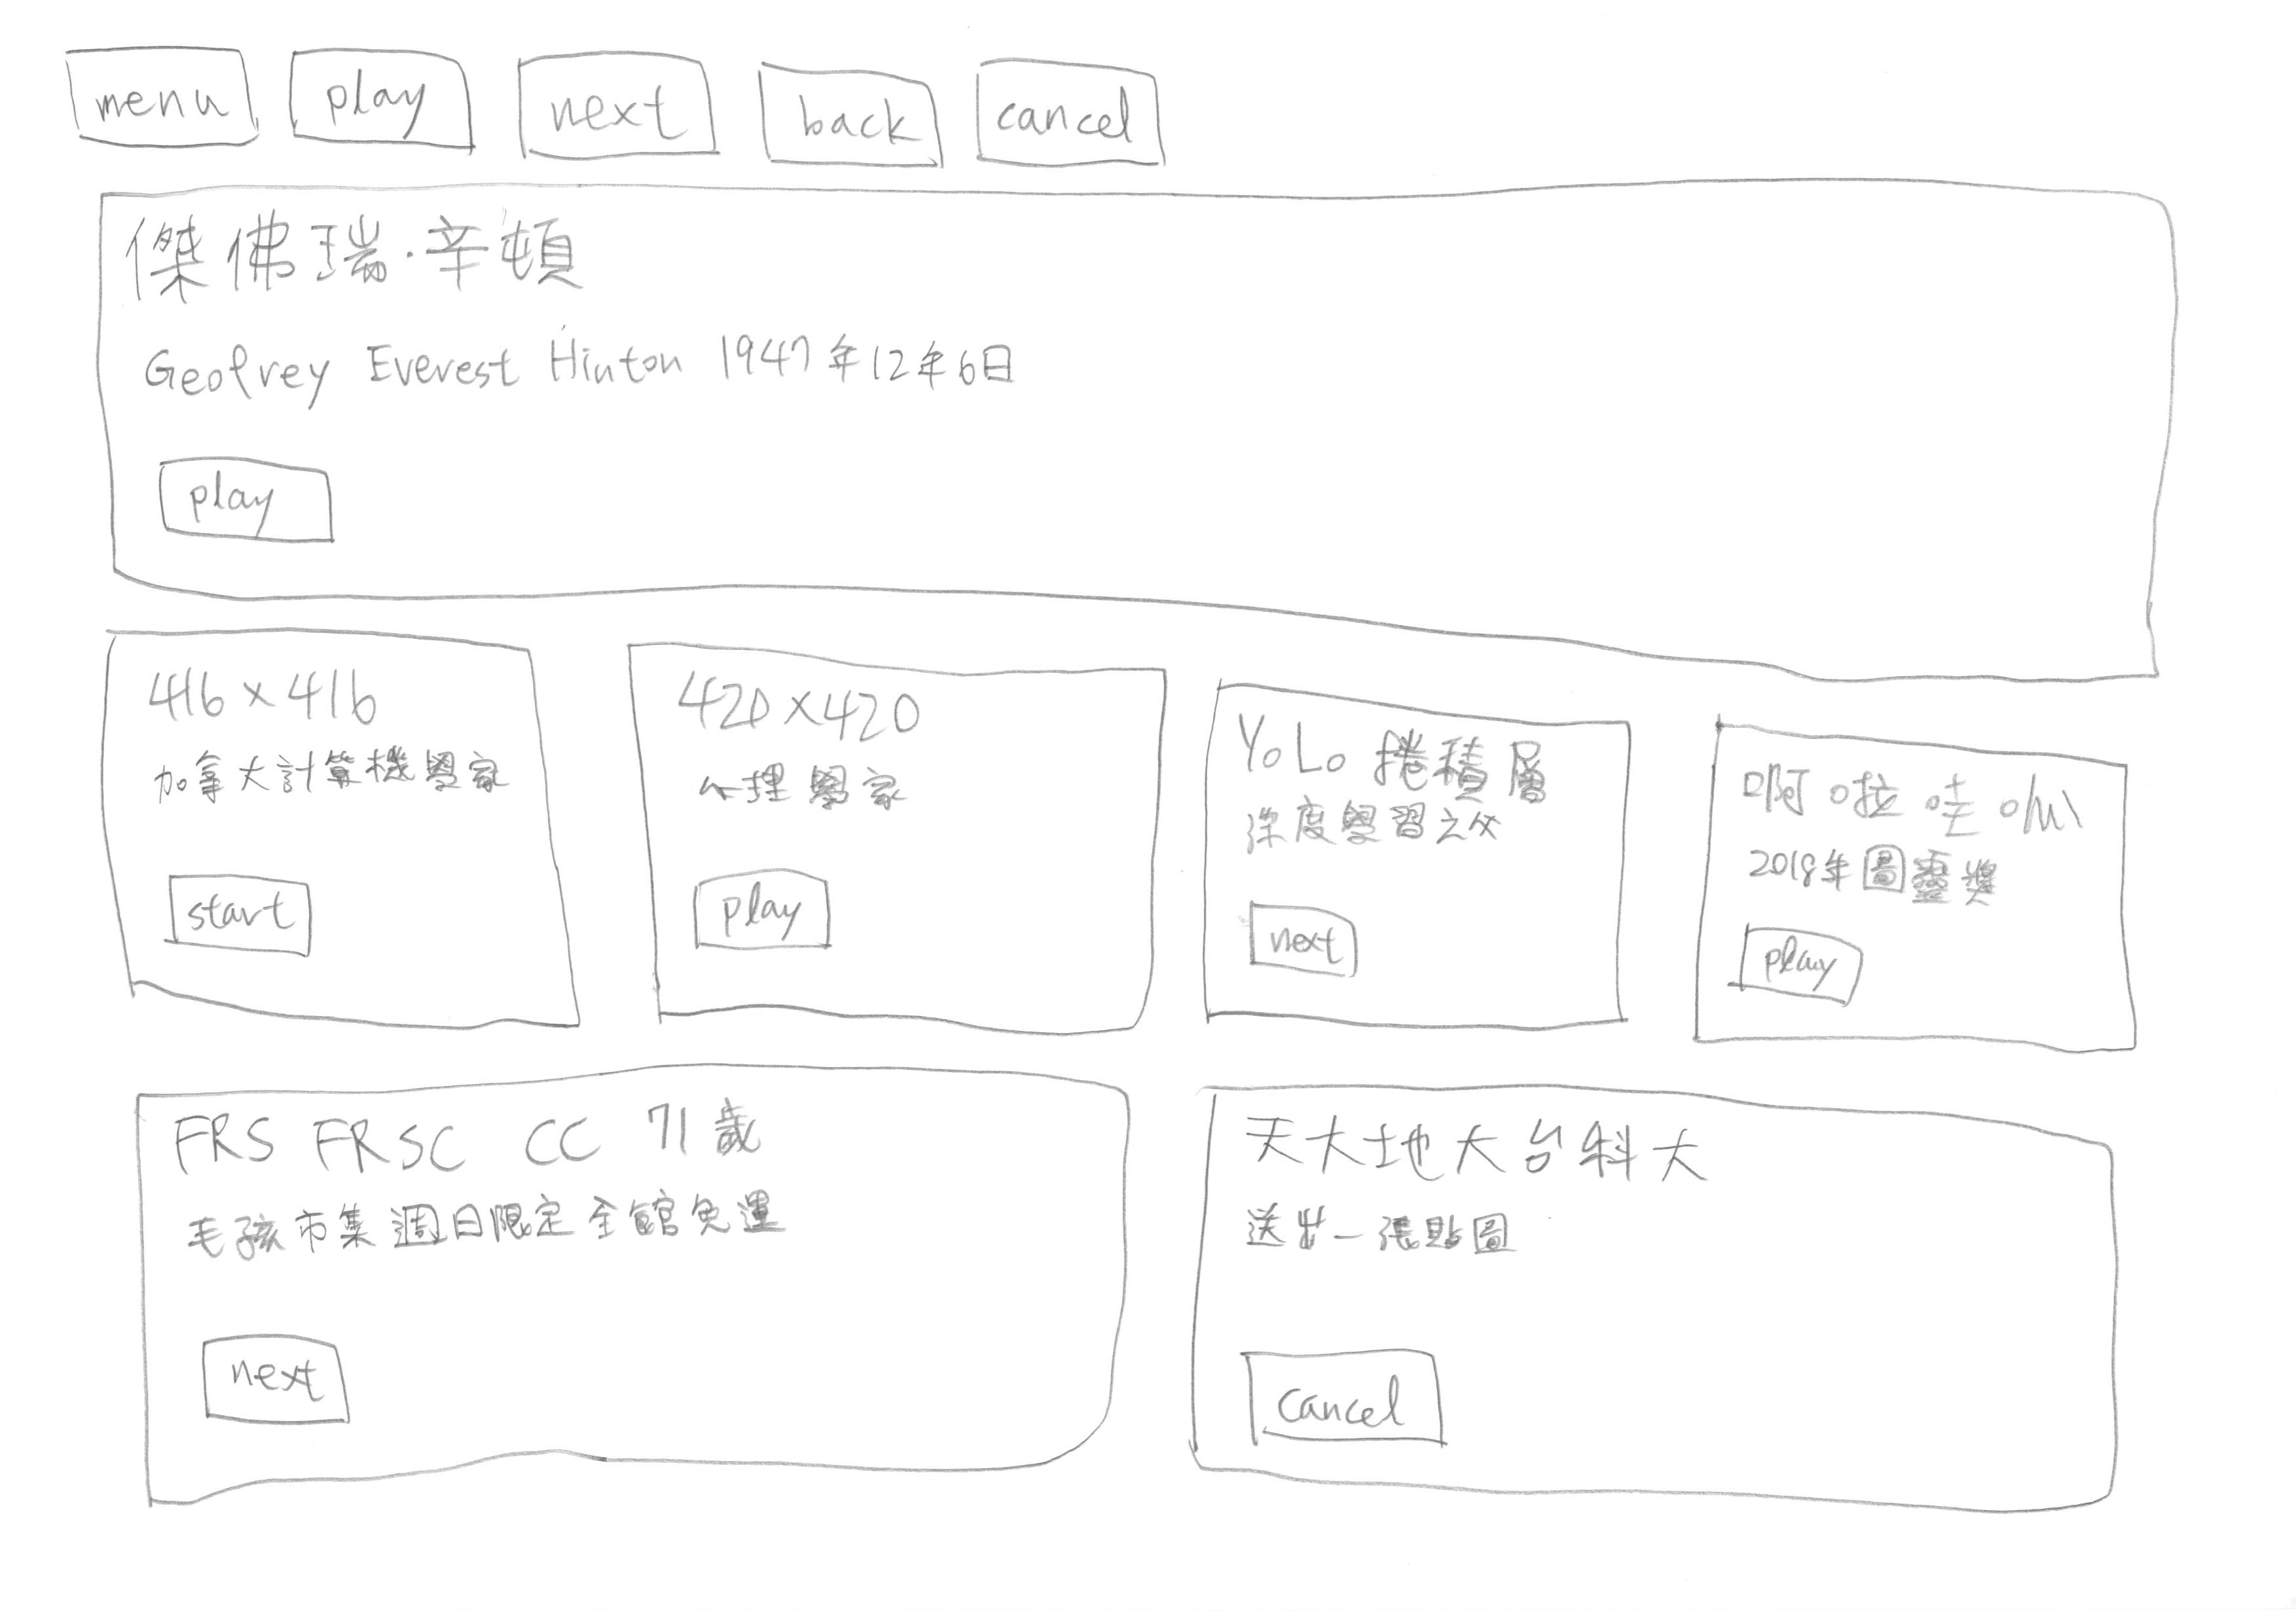back: (742, 40, 960, 192)
cancel: (1236, 1322, 1487, 1469), (958, 35, 1194, 185)
double: (1159, 1055, 2217, 1570), (84, 1042, 1150, 1508)
menu: (46, 23, 267, 169)
next: (499, 25, 742, 190), (186, 1316, 378, 1446), (1234, 891, 1391, 1009)
play: (265, 32, 485, 170), (137, 443, 362, 569), (675, 861, 858, 972), (1725, 912, 1876, 1023)
quadruple: (607, 608, 1190, 1056), (77, 610, 607, 1058), (1681, 703, 2206, 1088), (1178, 652, 1661, 1058)
row: (7, 209, 2296, 728), (7, 1037, 2296, 1555), (7, 575, 2296, 1091), (7, 7, 2296, 206)
single: (76, 165, 2268, 710)
small-title: (118, 218, 608, 302), (1259, 1114, 1697, 1181), (1227, 721, 1558, 803), (172, 1114, 759, 1158), (1762, 770, 2073, 847), (665, 663, 951, 740), (139, 654, 413, 731)
start: (141, 851, 329, 993)
text: (139, 318, 1006, 401), (178, 1190, 793, 1267), (172, 735, 489, 819), (1236, 1181, 1537, 1257), (1746, 838, 2025, 912), (1231, 807, 1522, 866), (710, 758, 897, 810)
